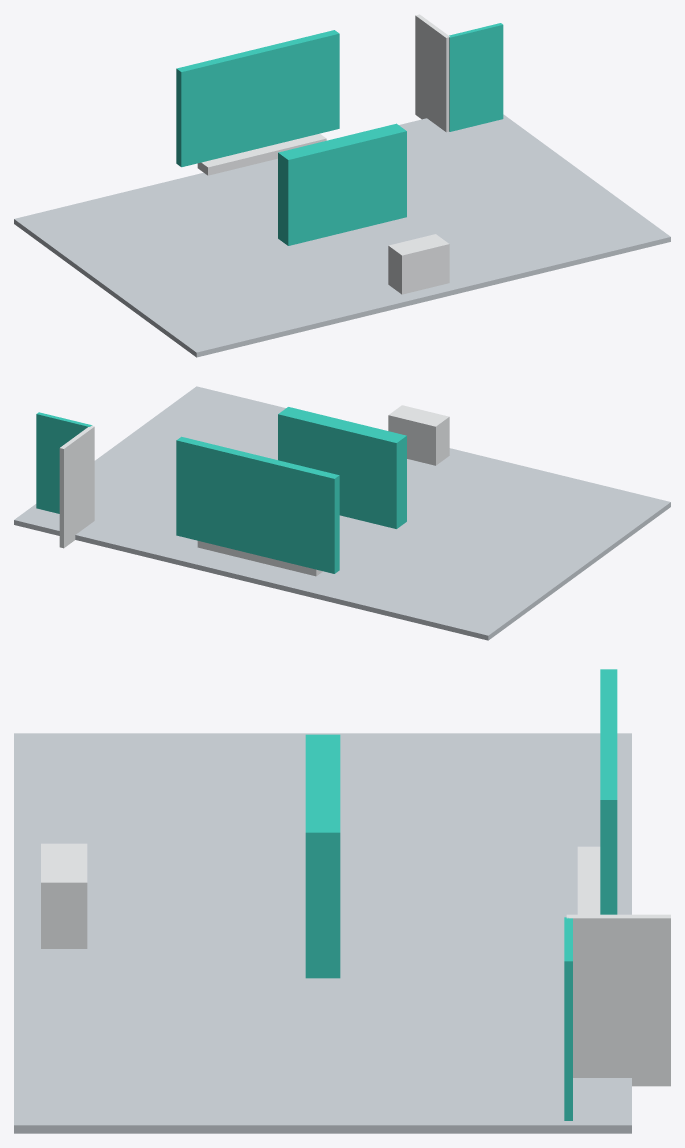
The picture shows the model from 3 angles, top to bottom: view 1: azimuth 30°, elevation 25°; view 2: azimuth 150°, elevation 25°; view 3: azimuth 270°, elevation 25°; orthographic projection. The views are drawn at different scales.
Parts seen in each view (by area): view 1: Exhibition Booth Concept; view 2: Exhibition Booth Concept; view 3: Exhibition Booth Concept.
Part boxes in pixels (bbox=[...]): Exhibition Booth Concept: bbox=[14, 14, 670, 357]; Exhibition Booth Concept: bbox=[14, 386, 670, 640]; Exhibition Booth Concept: bbox=[14, 669, 670, 1133].
Size of the model in its own units: 12 by 2.9 by 8.51.
